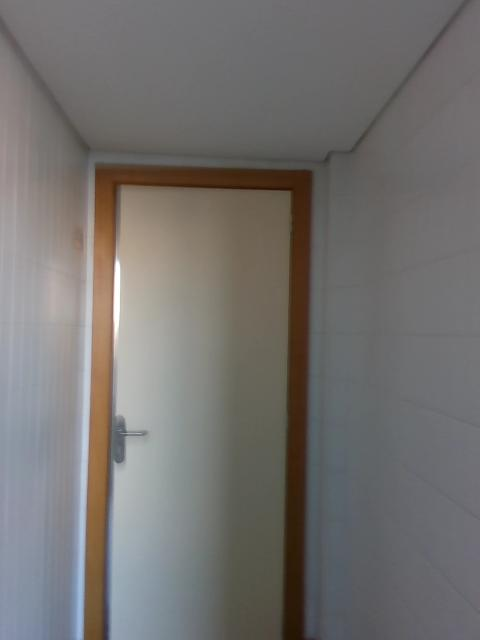door: (107, 184, 291, 640)
